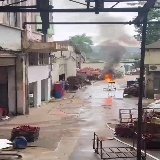fire: (105, 74, 115, 82)
